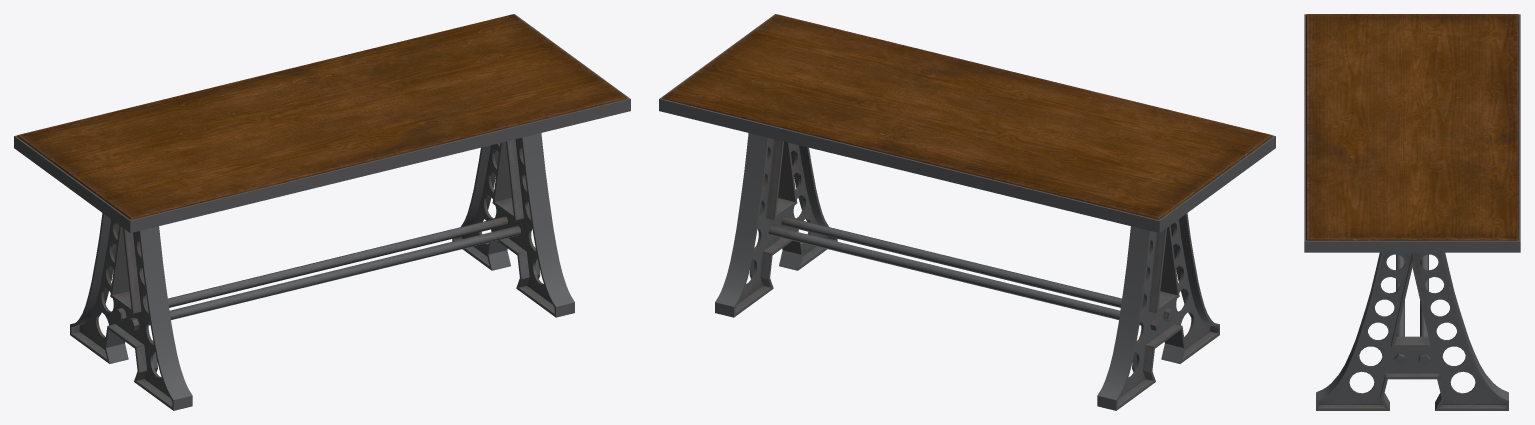
The model's file is table3.glb.
3 views of the same model, side by side, from view 1: azimuth 30°, elevation 25°; view 2: azimuth 150°, elevation 25°; view 3: azimuth 270°, elevation 25° (orthographic). The views are drawn at different scales.
Parts seen in each view (by area): view 1: defaultMaterial.002; view 2: defaultMaterial.002; view 3: defaultMaterial.002.
Part boxes in pixels (x1,y1,x2,y2): defaultMaterial.002: [14, 14, 630, 410]; defaultMaterial.002: [659, 14, 1275, 410]; defaultMaterial.002: [1304, 14, 1520, 410].
Bounding box in the file's own units: 7.14 × 2.83 × 2.87.
Materials: 1 (1 with a texture image).
